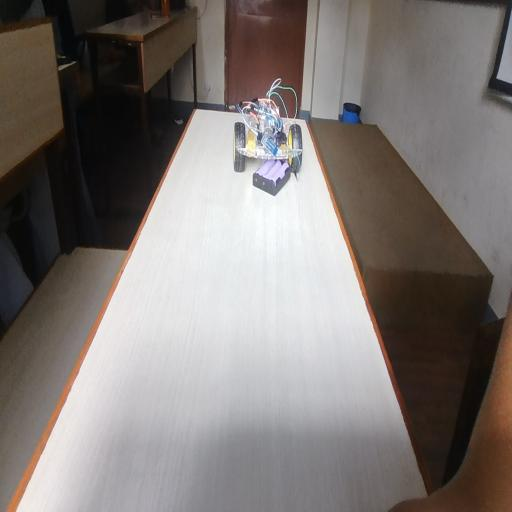car: (225, 78, 309, 180)
